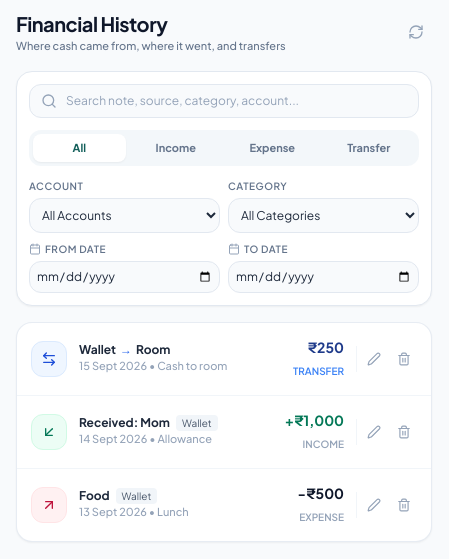
Test: History Page (HistoryPage) › filters history items by type filter tabs (Income, Expense, Transfer)
Check: the element with test id "history-list" is shown, box [16, 322, 432, 542]
// Click 'Transfer' tab
Click the button "Transfer": (369, 148) [322, 134, 415, 162]
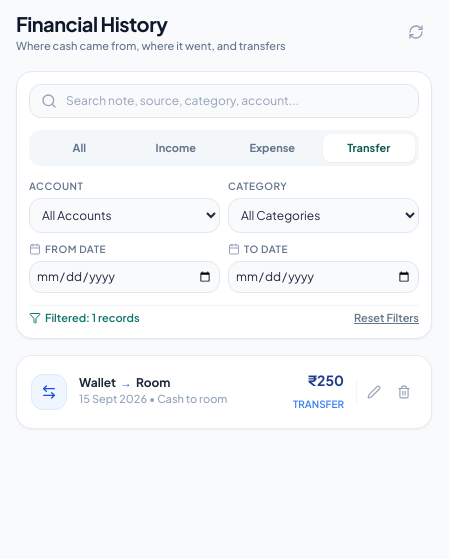
Check: the text "TRANSFER" is shown, box [293, 398, 344, 410]
Check: the text "Received: Mom" is gone
Check: the text "Food" is gone
